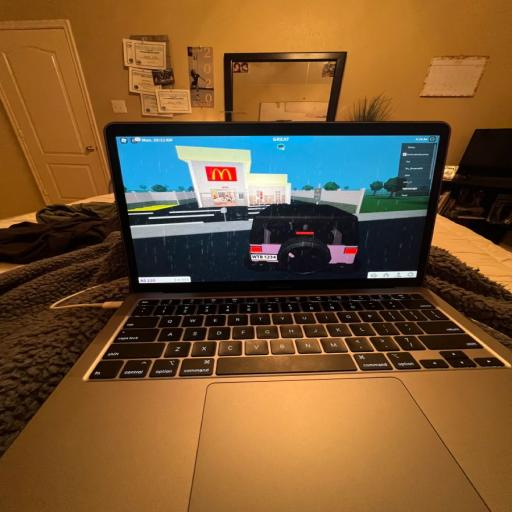bus: (446, 124, 511, 233)
corridor: (0, 21, 108, 203)
glass_wall: (2, 123, 511, 511)
person: (0, 232, 129, 455), (433, 216, 511, 290)
